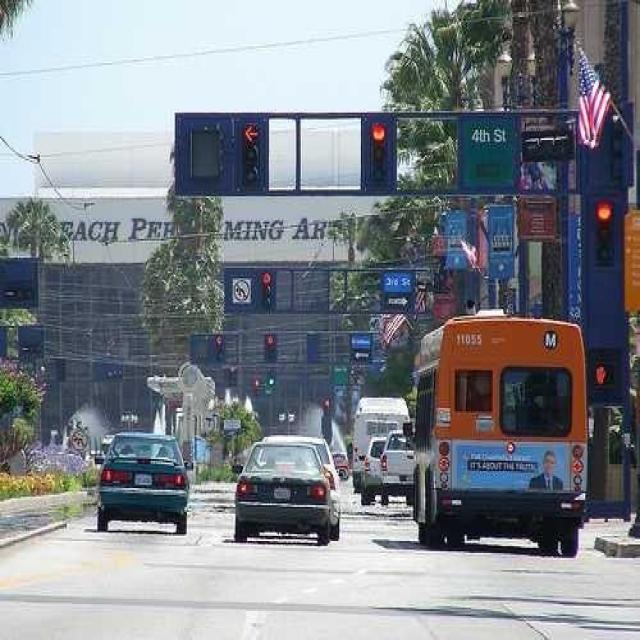Traffic Light -Red-: (594, 198, 619, 276), (240, 116, 264, 191), (370, 120, 388, 184), (260, 270, 272, 310)
